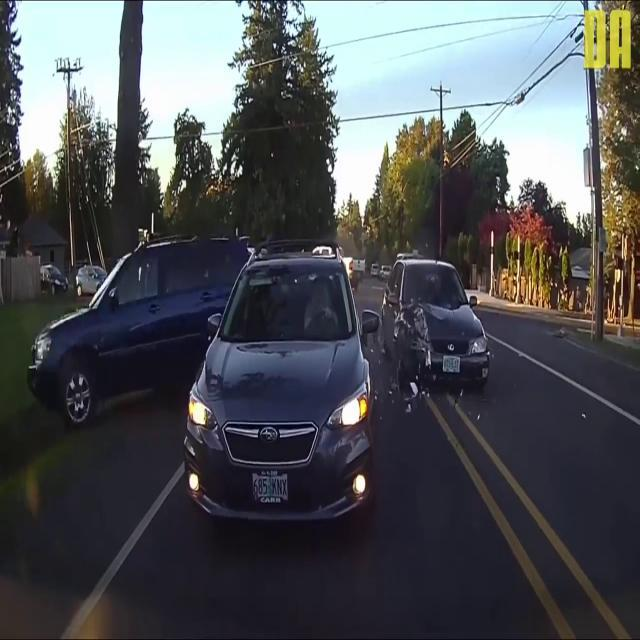multiple_accident: (19, 196, 484, 548), (345, 208, 512, 417)
